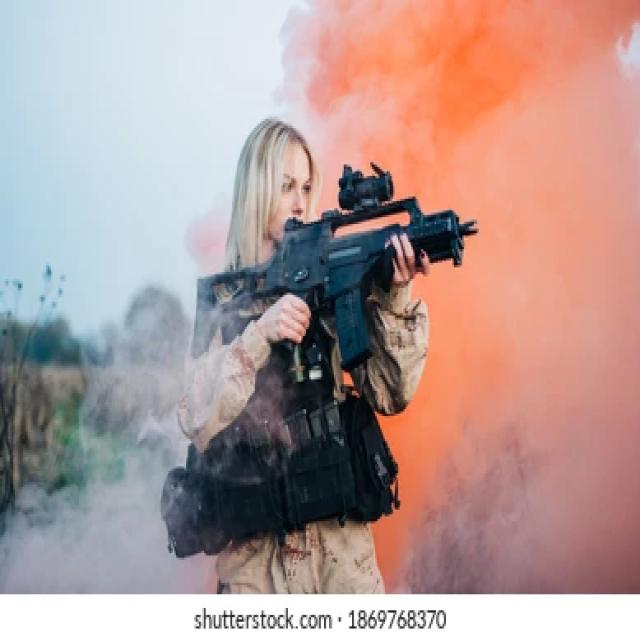soldier: (165, 93, 470, 595)
